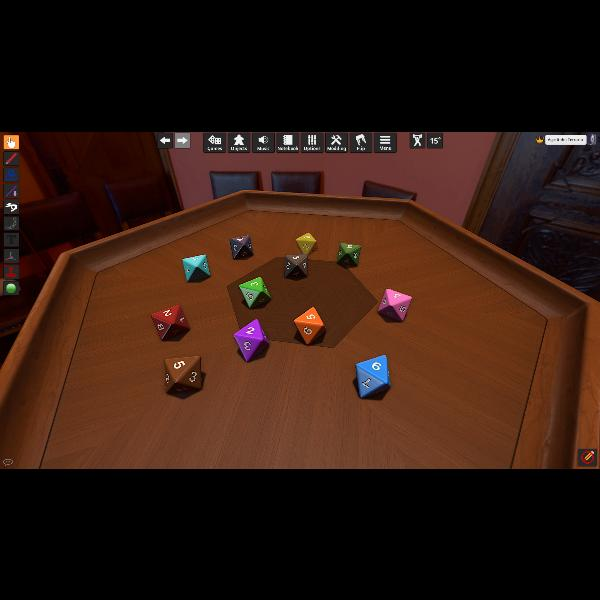d8: (355, 354, 389, 398), (151, 302, 189, 340), (234, 320, 268, 362), (164, 355, 202, 392), (377, 287, 410, 321), (294, 308, 325, 344), (239, 276, 271, 308), (182, 253, 210, 281), (284, 253, 308, 277), (336, 242, 360, 266), (230, 234, 252, 258), (296, 232, 316, 255)
